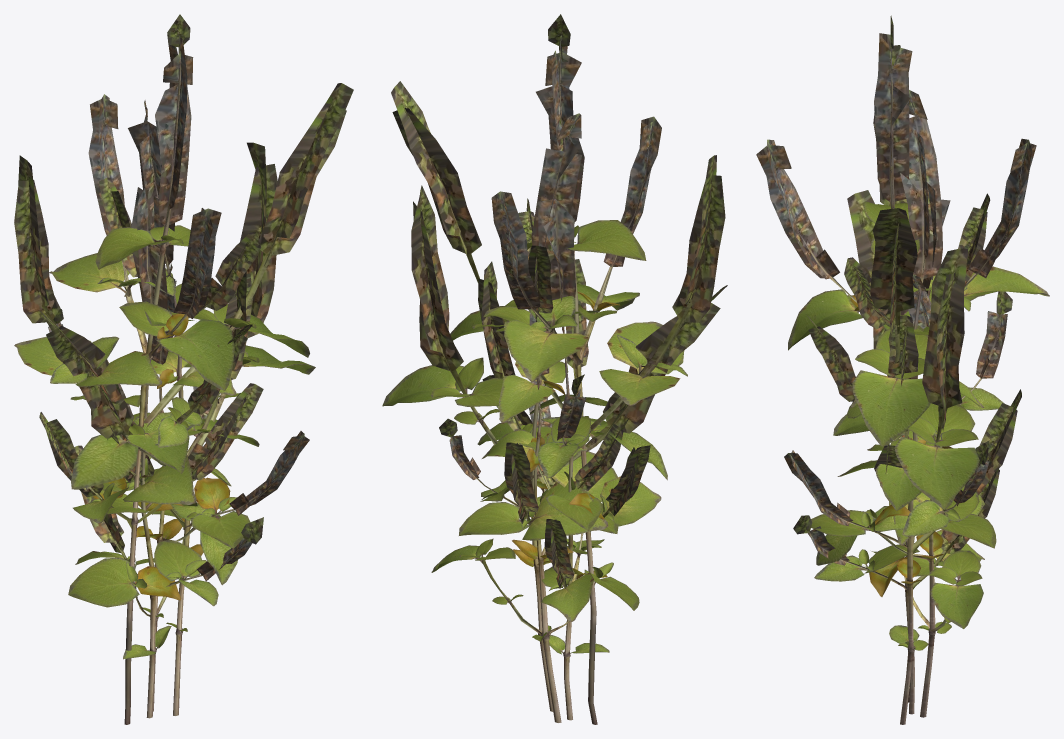
Rendered from shrub_03.glb.
3 renders of one model, left to right at view 1: azimuth 30°, elevation 25°; view 2: azimuth 150°, elevation 25°; view 3: azimuth 270°, elevation 25°, orthographic. The views are drawn at different scales.
Parts seen in each view (by area): view 1: shrub_03_a_lod0, shrub_03_b_lod0, shrub_03_c_lod0, shrub_03_d_lod0; view 2: shrub_03_a_lod0, shrub_03_b_lod0, shrub_03_c_lod0, shrub_03_d_lod0; view 3: shrub_03_b_lod0, shrub_03_a_lod0, shrub_03_c_lod0, shrub_03_d_lod0.
Boxes of the visible parts, left/top/right/bottom form: shrub_03_a_lod0: left=14, top=14, right=353, bottom=724; shrub_03_b_lod0: left=39, top=100, right=315, bottom=715; shrub_03_c_lod0: left=48, top=187, right=263, bottom=718; shrub_03_d_lod0: left=68, top=263, right=237, bottom=711; shrub_03_a_lod0: left=391, top=14, right=725, bottom=724; shrub_03_b_lod0: left=382, top=113, right=727, bottom=711; shrub_03_c_lod0: left=477, top=199, right=618, bottom=720; shrub_03_d_lod0: left=431, top=312, right=639, bottom=722; shrub_03_b_lod0: left=784, top=90, right=1021, bottom=724; shrub_03_a_lod0: left=756, top=15, right=1049, bottom=702; shrub_03_c_lod0: left=793, top=182, right=1012, bottom=714; shrub_03_d_lod0: left=816, top=274, right=989, bottom=717.
Size of what is drawn, in the model's own units: 0.2006 by 0.4028 by 0.1512.
1 material, 1 textured.
